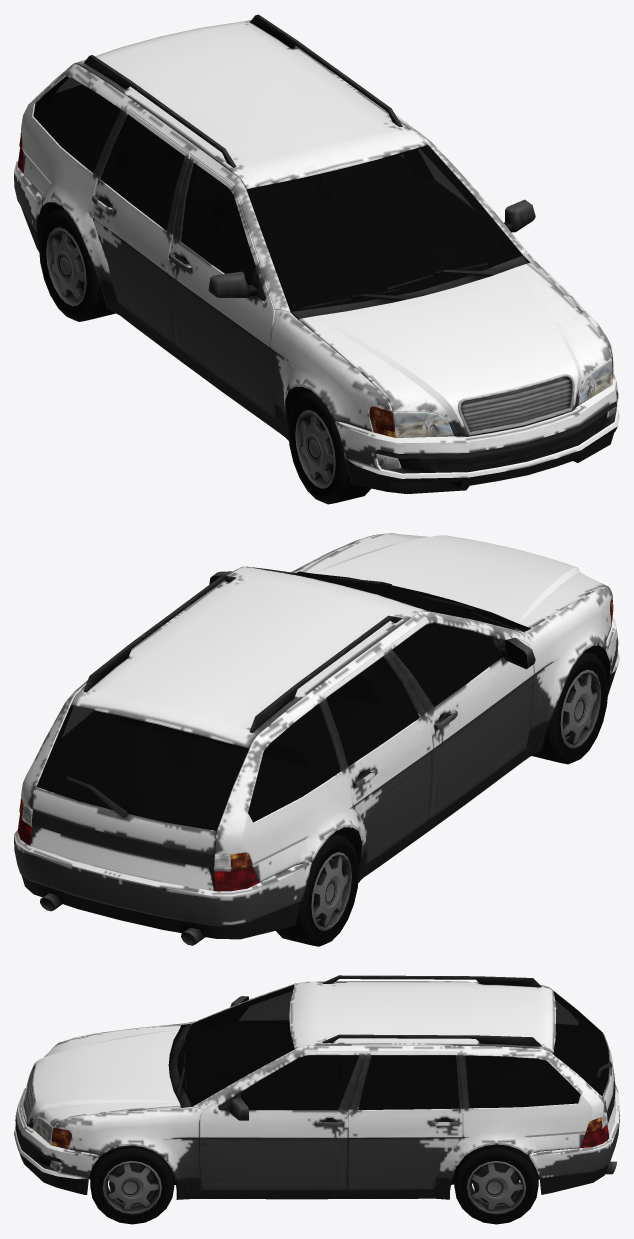
The model's file is cmp_wagon.glb.
3 renders of one model, top to bottom at view 1: azimuth 30°, elevation 25°; view 2: azimuth 150°, elevation 25°; view 3: azimuth 270°, elevation 25°, orthographic. The views are drawn at different scales.
Visible parts, largest first — view 1: Wagon Body, Wheel_A002, Wheel_A003; view 2: Wagon Body, Wheel_A003, Wheel_A002; view 3: Wagon Body, Wheel_A001, Wheel_A.
Part boxes in pixels (bbox=[...]): Wagon Body: bbox=[14, 14, 619, 493]; Wheel_A002: bbox=[288, 391, 371, 504]; Wheel_A003: bbox=[39, 208, 115, 321]; Wagon Body: bbox=[14, 533, 619, 945]; Wheel_A003: bbox=[276, 833, 358, 946]; Wheel_A002: bbox=[532, 651, 608, 764]; Wagon Body: bbox=[14, 975, 619, 1199]; Wheel_A001: bbox=[454, 1144, 538, 1224]; Wheel_A: bbox=[90, 1145, 174, 1224].
Bounding box in the file's own units: 1.95 × 1.38 × 4.38.
4 materials, 3 textured.
